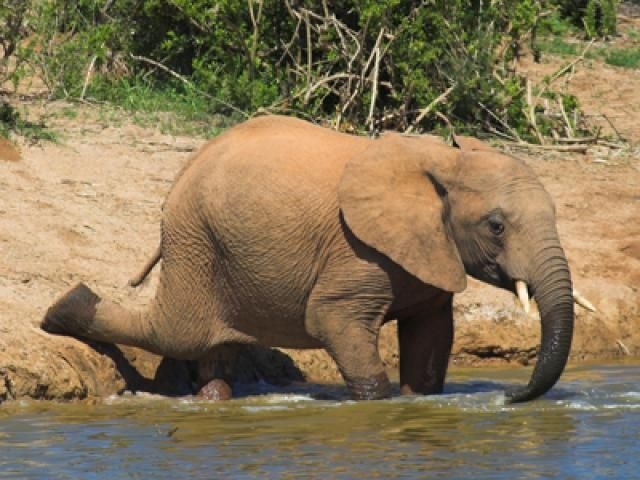elephant: (35, 101, 596, 413)
